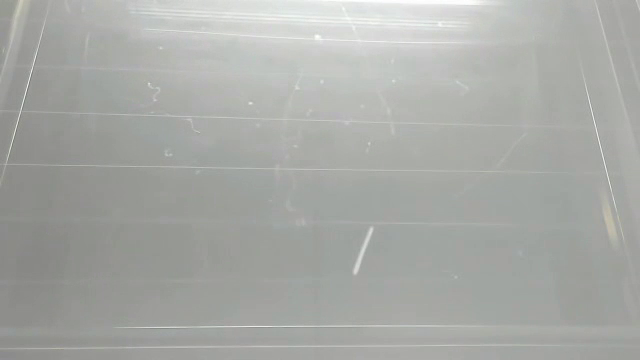alpha: (347, 222, 381, 280)
